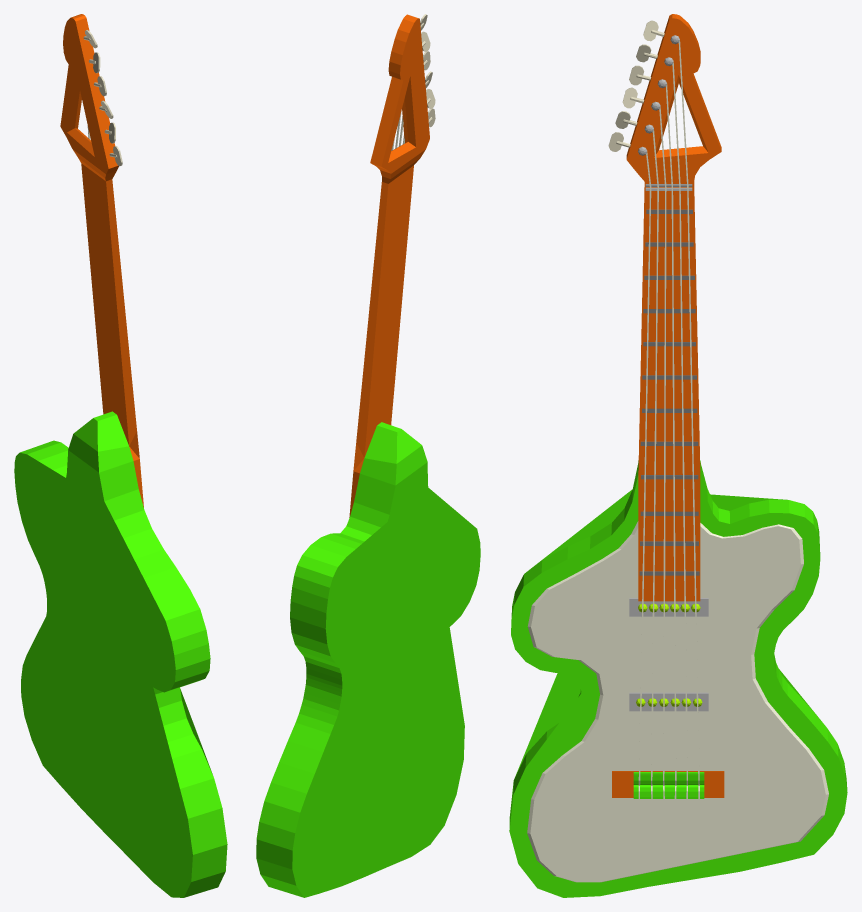
Rendered from Green_Guitar.fbx.
3 renders of one model, left to right at view 1: azimuth 30°, elevation 25°; view 2: azimuth 150°, elevation 25°; view 3: azimuth 270°, elevation 25°, orthographic. The views are drawn at different scales.
Visible parts, largest first — view 1: Green; view 2: Green; view 3: Green.
Boxes of the visible parts, <box> form: Green: <box>14,14,227,897</box>; Green: <box>256,14,480,897</box>; Green: <box>509,14,847,897</box>.
Bounding box in the file's own units: 54.92 × 573 × 207.
Materials: 1 (1 with a texture image).
